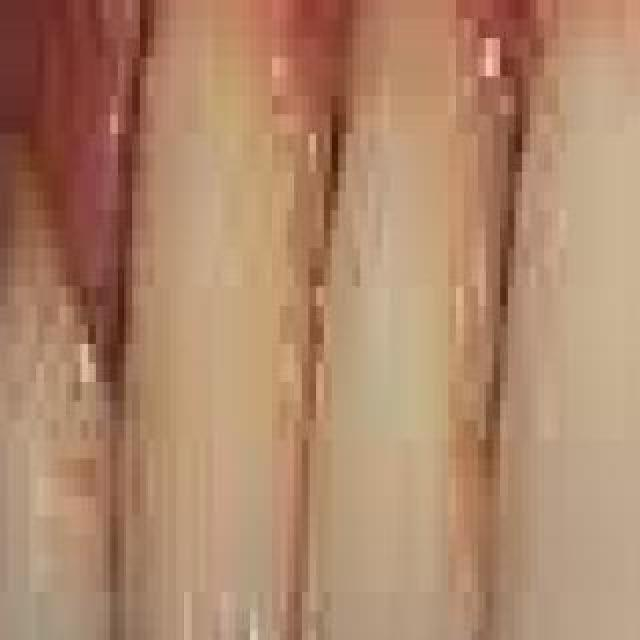calculus: (58, 0, 640, 402)
